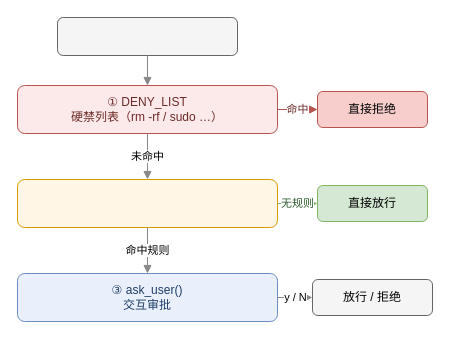
The diagram is 450 pixels wide and 339 high, and some of its shapes have lost their labels. The shapes that lost their labels are listed below. From the top down, each one's centre as x and y in pixels, then its label:
At point 147,36: "工具调用 block".
At point 147,203: "② PERMISSION_RULES 规则匹配".
